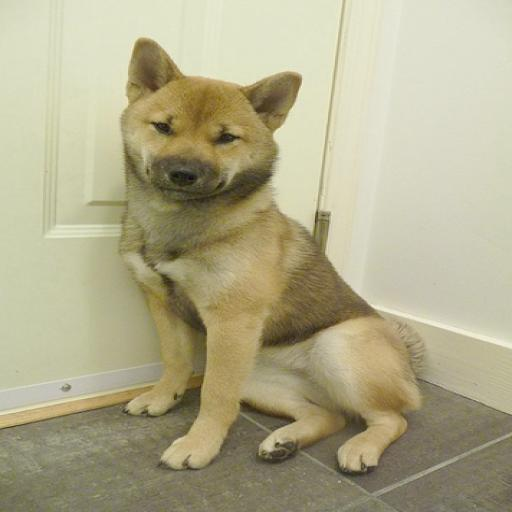dog_face: (113, 45, 308, 206)
